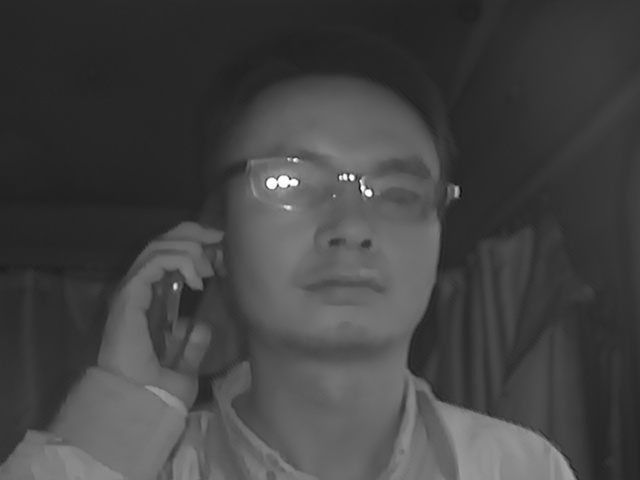hand: (97, 220, 227, 386)
